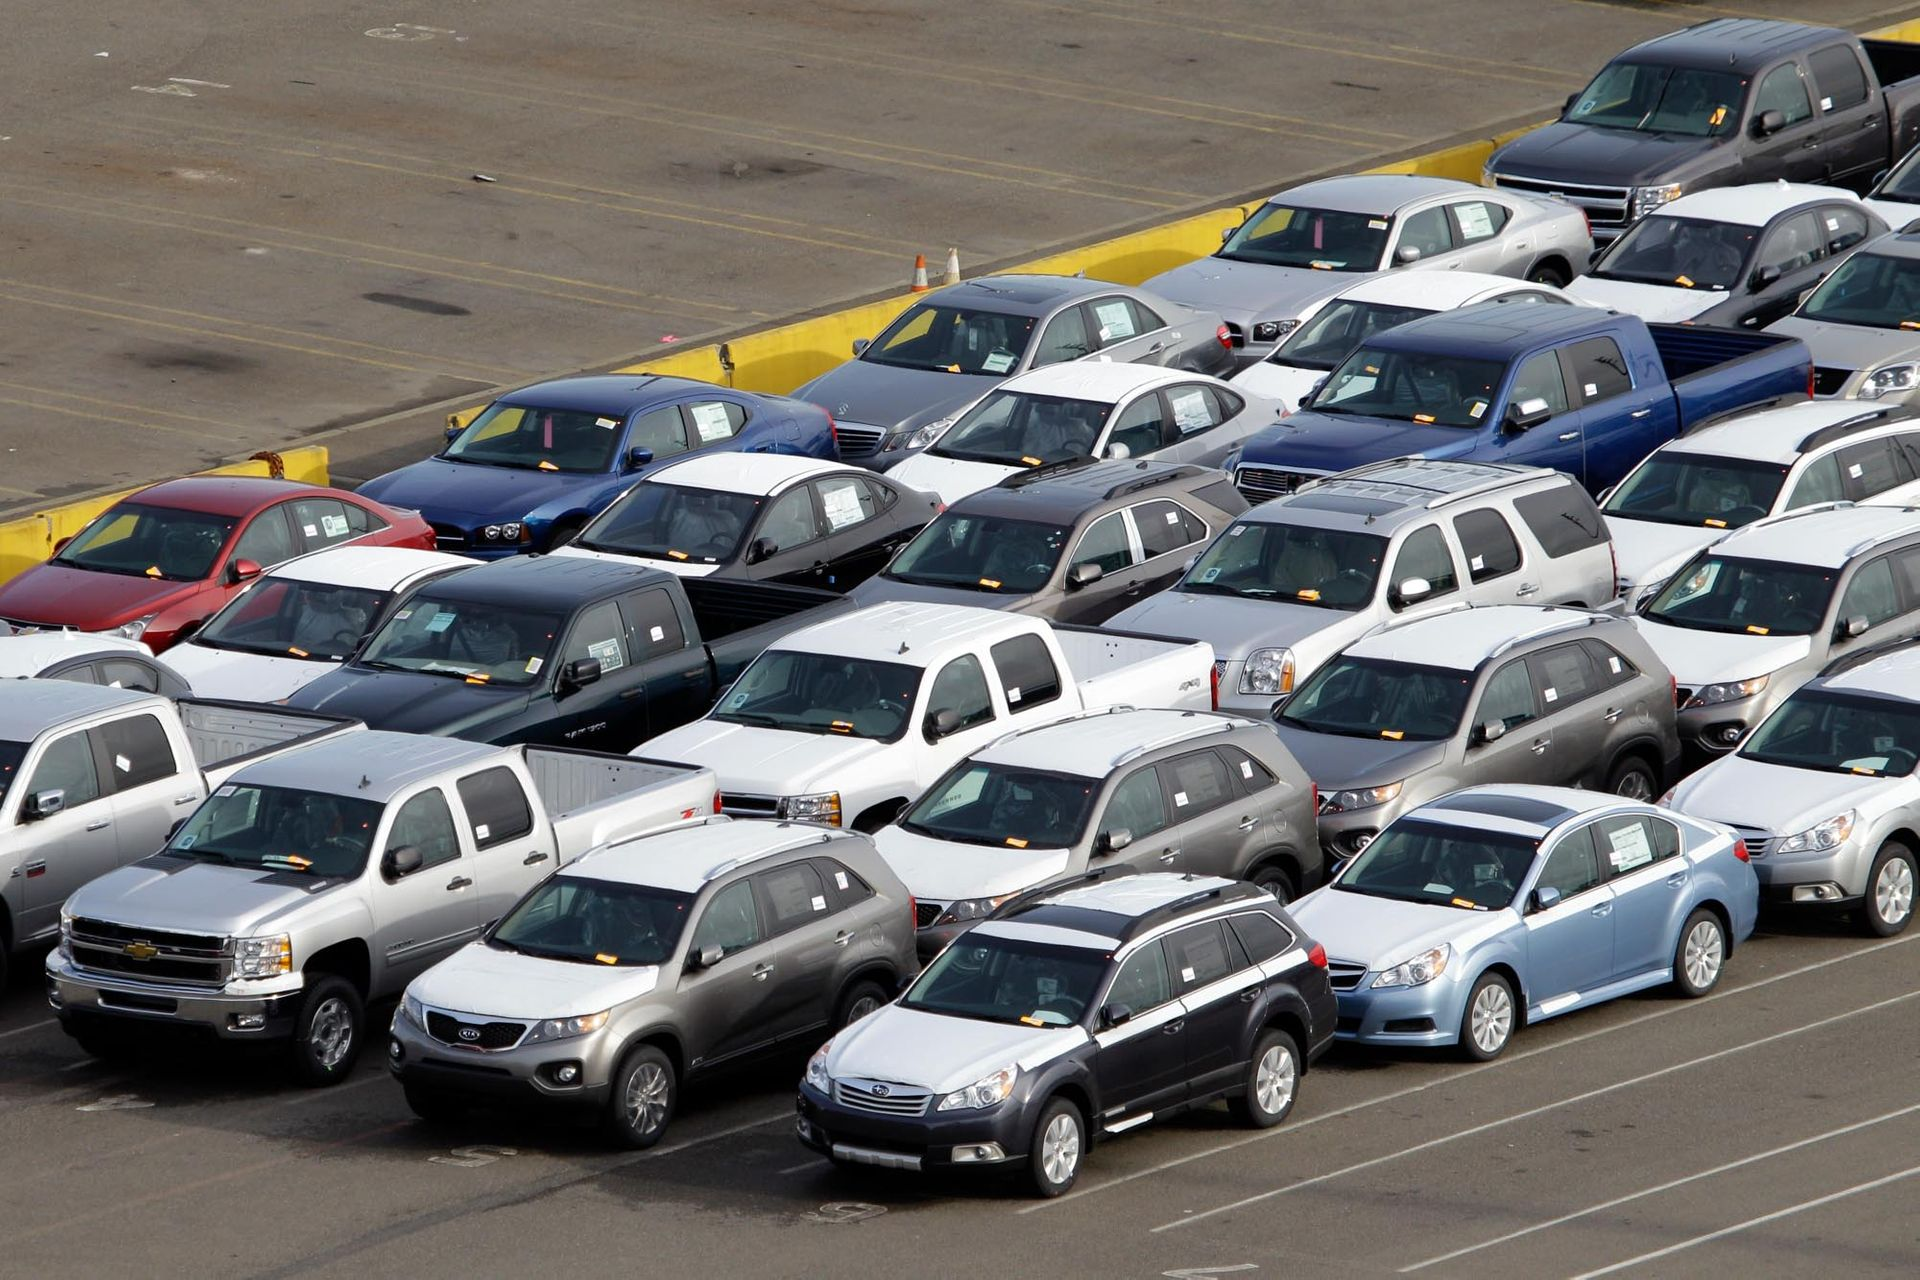Car: (46, 731, 719, 1084), (796, 873, 1336, 1197), (389, 819, 917, 1149), (1094, 460, 1617, 716), (634, 601, 1214, 830), (1287, 784, 1759, 1061), (1221, 303, 1813, 504), (0, 679, 367, 991), (874, 710, 1323, 959), (286, 556, 850, 753), (1271, 604, 1680, 864), (1484, 19, 1920, 249), (359, 376, 839, 559), (789, 276, 1234, 470), (1146, 174, 1591, 360), (1659, 644, 1920, 937), (0, 477, 434, 650), (1634, 504, 1920, 761), (1601, 401, 1920, 607), (851, 460, 1249, 624), (884, 361, 1286, 506), (556, 454, 943, 594), (1229, 270, 1586, 411), (157, 549, 481, 701), (1563, 181, 1887, 329), (1761, 221, 1920, 410), (0, 621, 193, 697), (1867, 147, 1920, 230)
